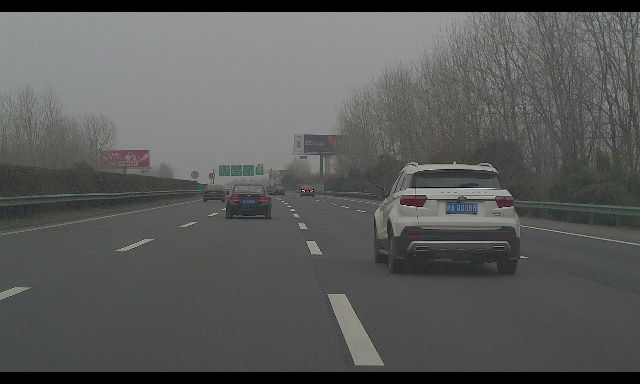car: (371, 161, 520, 274), (224, 182, 274, 219), (202, 184, 226, 203), (300, 186, 314, 197), (272, 186, 285, 196)
